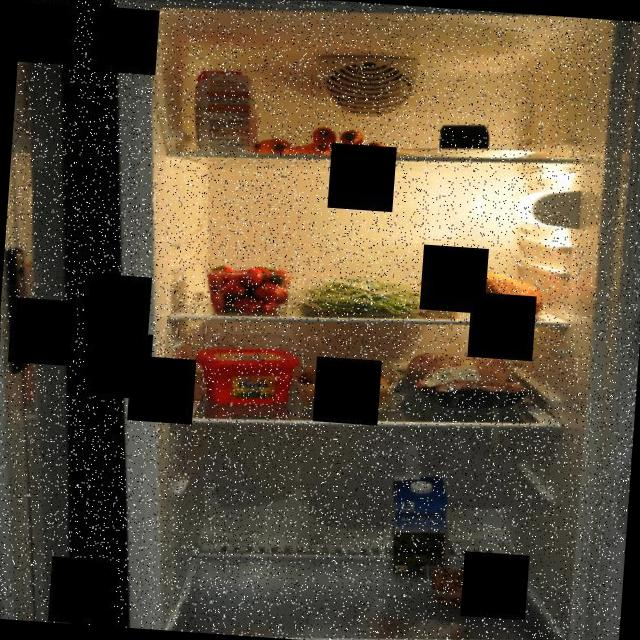Carne pollo: (393, 340, 538, 418)
Gambas/Langostinos: (427, 564, 509, 612)
Leche: (385, 469, 456, 582)
Mantequilla: (190, 340, 306, 412)
Patata: (292, 360, 402, 417)
Queso: (434, 120, 493, 154)
Zanahoria: (254, 117, 404, 168)
